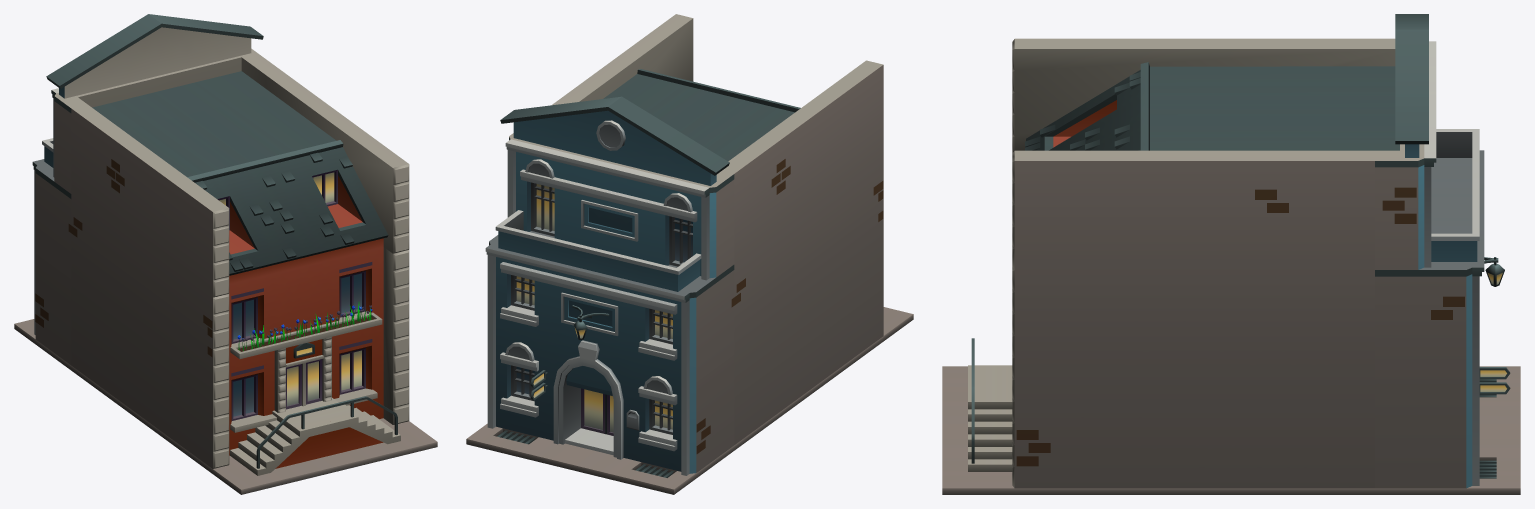
Rendered from Brownstone_3A.fbx.
3 views of the same model, side by side, from view 1: azimuth 30°, elevation 25°; view 2: azimuth 150°, elevation 25°; view 3: azimuth 270°, elevation 25° (orthographic). The views are drawn at different scales.
Visible parts, largest first — view 1: Brownstone_3A, Brownstone_3A_Window_Lights; view 2: Brownstone_3A, Brownstone_3A_Window_Lights; view 3: Brownstone_3A.
Part boxes in pixels (bbox=[...]): Brownstone_3A: bbox=[14, 14, 437, 494]; Brownstone_3A_Window_Lights: bbox=[219, 172, 361, 405]; Brownstone_3A: bbox=[466, 14, 913, 494]; Brownstone_3A_Window_Lights: bbox=[516, 184, 672, 432]; Brownstone_3A: bbox=[942, 14, 1520, 494].
Size of the model in its own units: 12.48 by 18.51 by 24.
